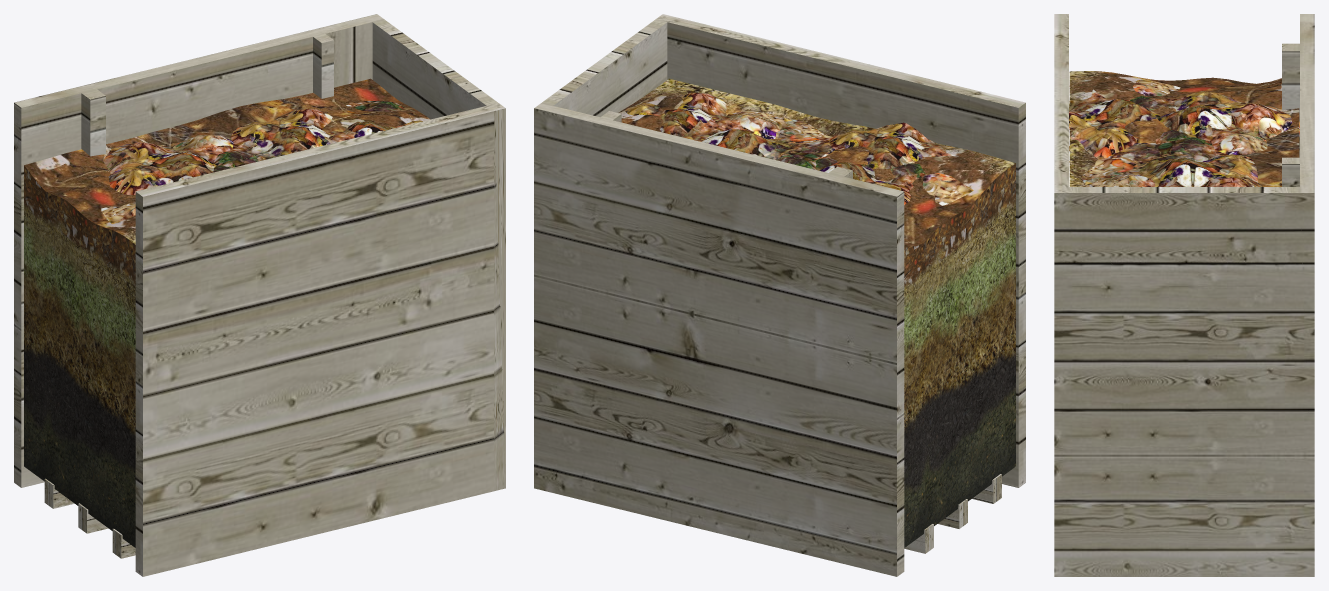
The model's file is 碳足跡.gltf.
The picture shows the model from 3 angles, left to right: view 1: azimuth 30°, elevation 25°; view 2: azimuth 150°, elevation 25°; view 3: azimuth 270°, elevation 25°; orthographic projection.
Parts seen in each view (by area): view 1: Box001Mesh, Box002Mesh, Circle003Mesh; view 2: Box001Mesh, Box002Mesh, Circle003Mesh; view 3: Box001Mesh, Circle003Mesh, Box002Mesh.
Boxes of the visible parts, x1,y1,x2,y2 form: Box001Mesh: [14, 14, 505, 576]; Box002Mesh: [24, 78, 430, 547]; Circle003Mesh: [101, 101, 422, 224]; Box001Mesh: [534, 14, 1025, 576]; Box002Mesh: [618, 78, 1015, 547]; Circle003Mesh: [625, 93, 973, 205]; Box001Mesh: [1054, 14, 1314, 576]; Circle003Mesh: [1069, 80, 1299, 186]; Box002Mesh: [1069, 71, 1299, 186].
Bounding box in the file's own units: 0.1237 × 0.1238 × 0.076.
Materials: 3 (3 with a texture image).
